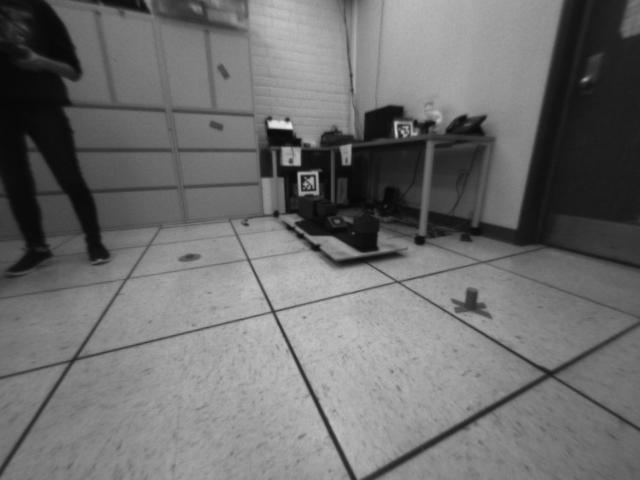X: (448, 286, 495, 321)
